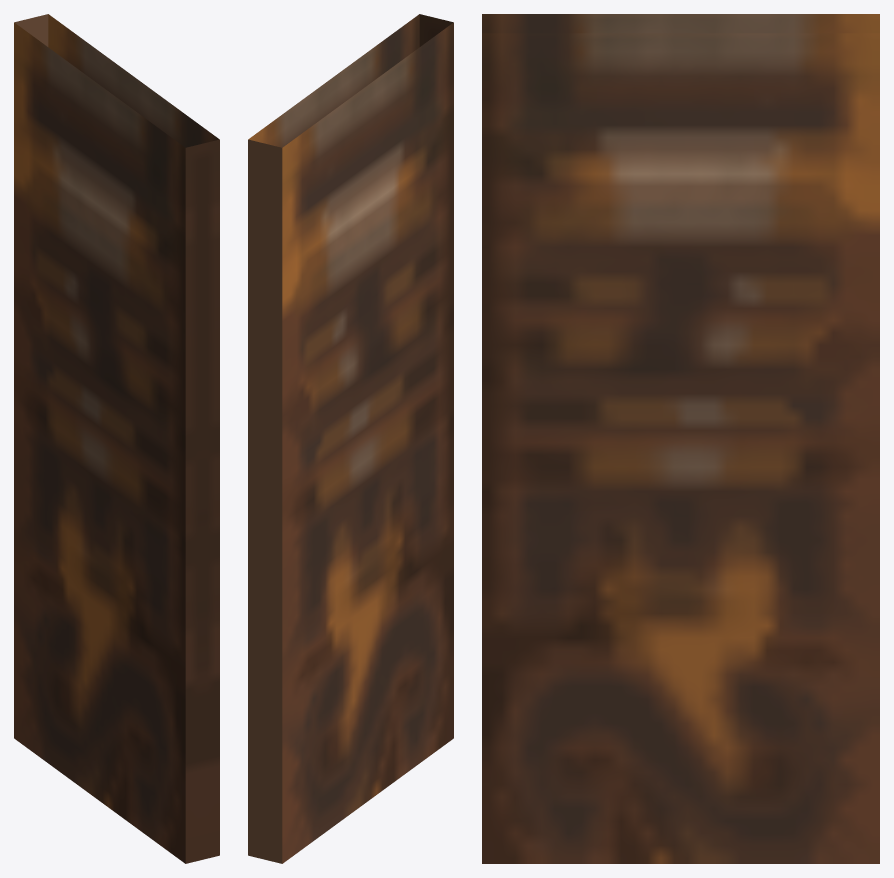
The model's file is section-7.obj.
3 views of the same model, side by side, from view 1: azimuth 30°, elevation 25°; view 2: azimuth 150°, elevation 25°; view 3: azimuth 270°, elevation 25° (orthographic). The views are drawn at different scales.
Bounding box in the file's own units: 0.053 × 1.06 × 0.46.
Materials: 1 (1 with a texture image).
